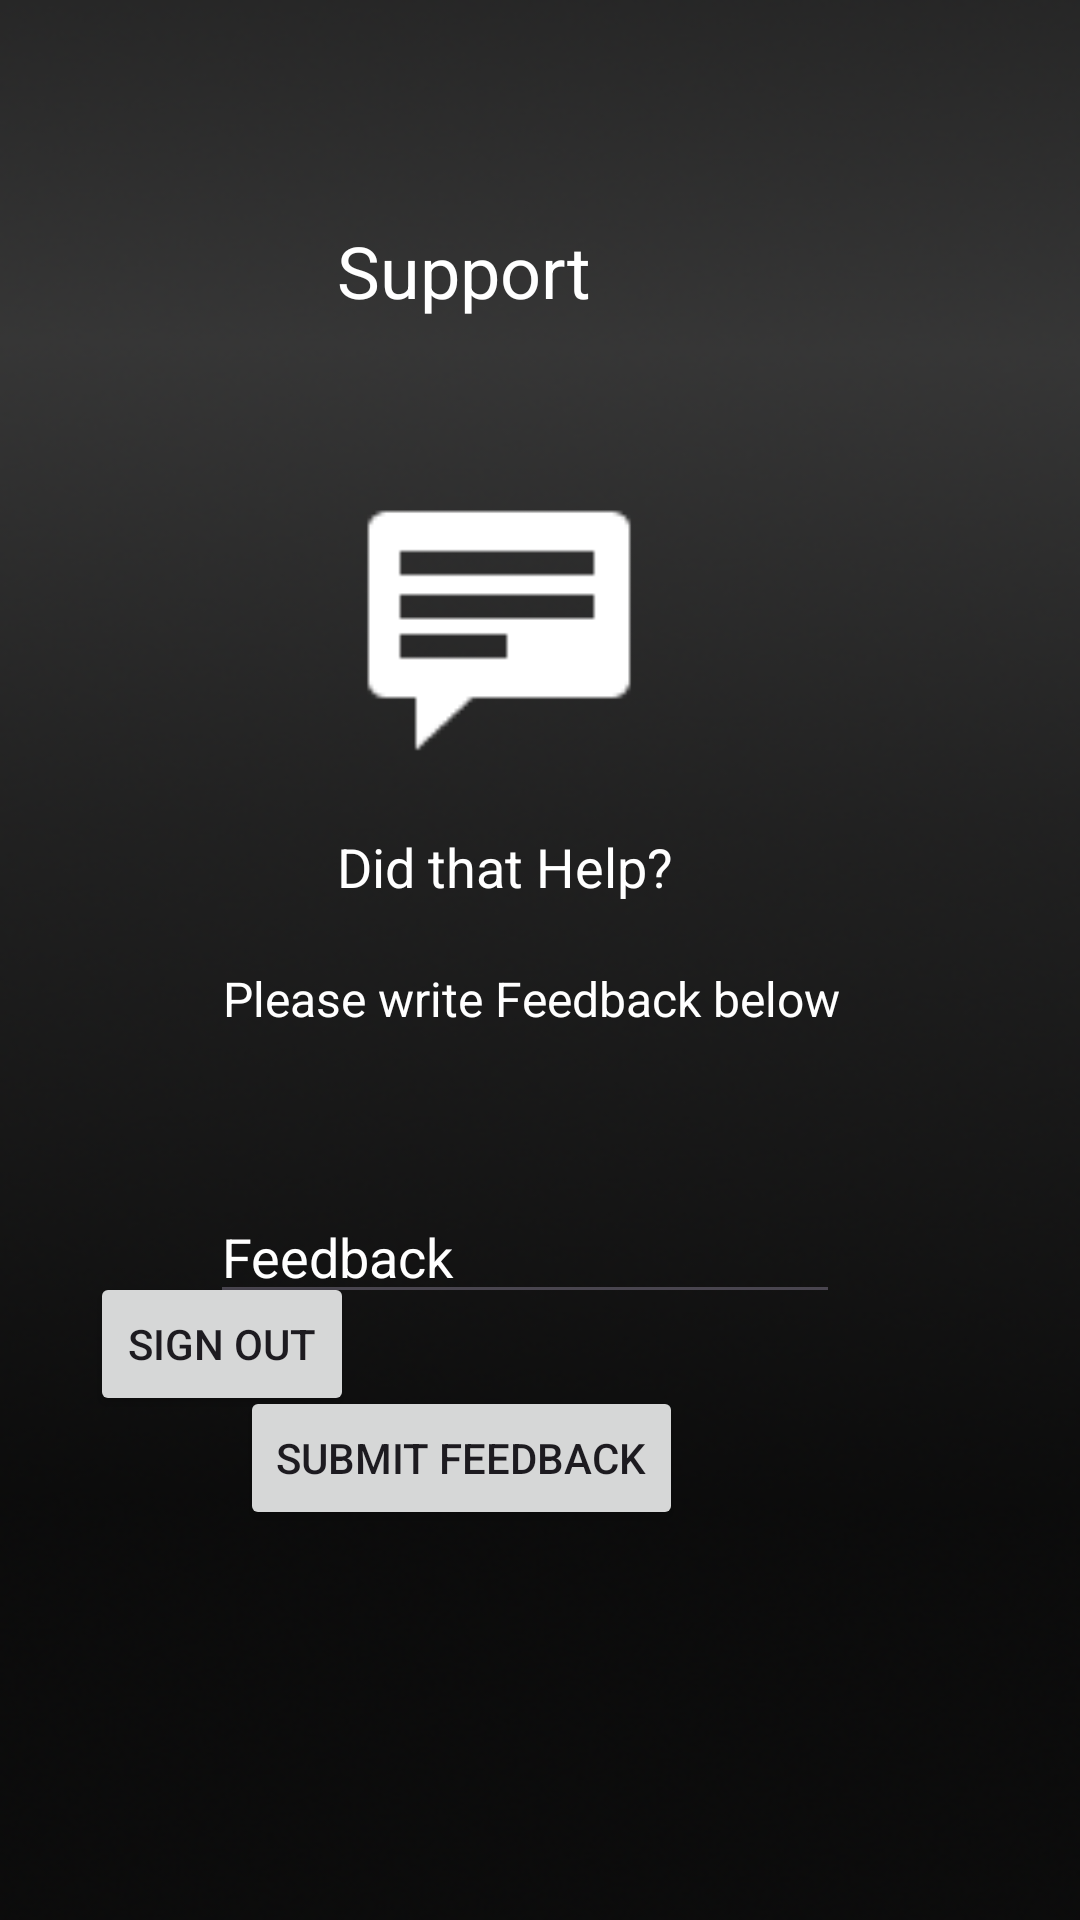

Where icons sit on this 1080 × 1920 app screen, as [left=x1, top=y1, right=x2, bottom=y2]:
chat: [left=367, top=510, right=631, bottom=750]
